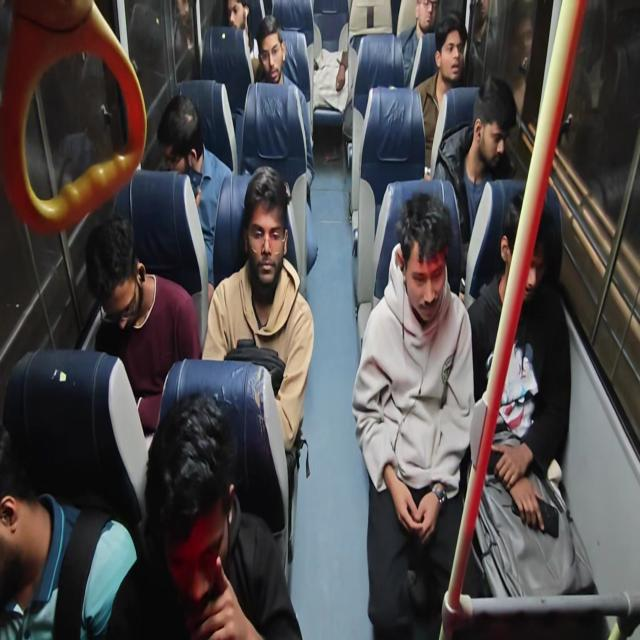person: (142, 402, 286, 640), (70, 217, 180, 393), (492, 183, 576, 389), (396, 211, 497, 380), (0, 437, 71, 639), (256, 173, 300, 340), (168, 82, 218, 194), (467, 94, 519, 182), (308, 46, 350, 134), (444, 27, 479, 119), (258, 24, 288, 106), (219, 3, 252, 48), (414, 0, 442, 28)
